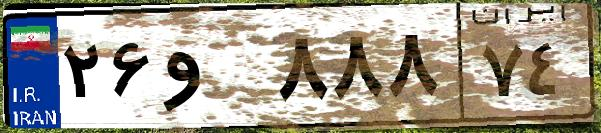2: (57, 26, 110, 100)
4: (525, 38, 570, 115)
6: (110, 28, 158, 98)
7: (475, 38, 525, 113)
8: (270, 28, 330, 110), (385, 28, 445, 110), (330, 28, 385, 110)
و: (158, 20, 270, 120)
